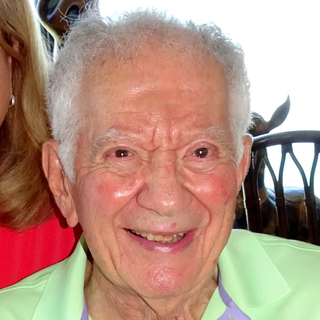eye: (183, 140, 222, 165), (101, 145, 146, 165)
